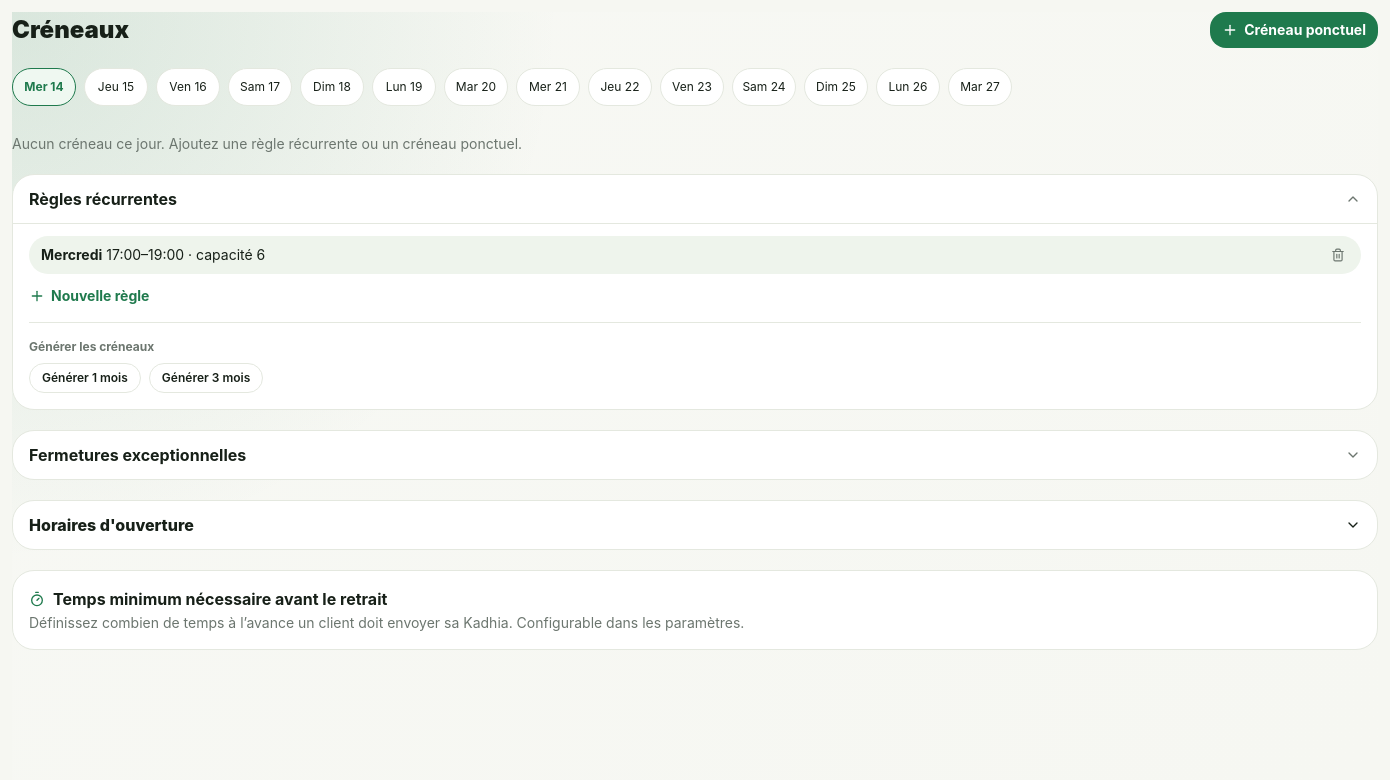
Test: MerchantCreneauxPage › rereads slots after an uncertain generation before allowing another attempt
Click the button "Générer 1 mois": (85, 378) [29, 363, 141, 393]
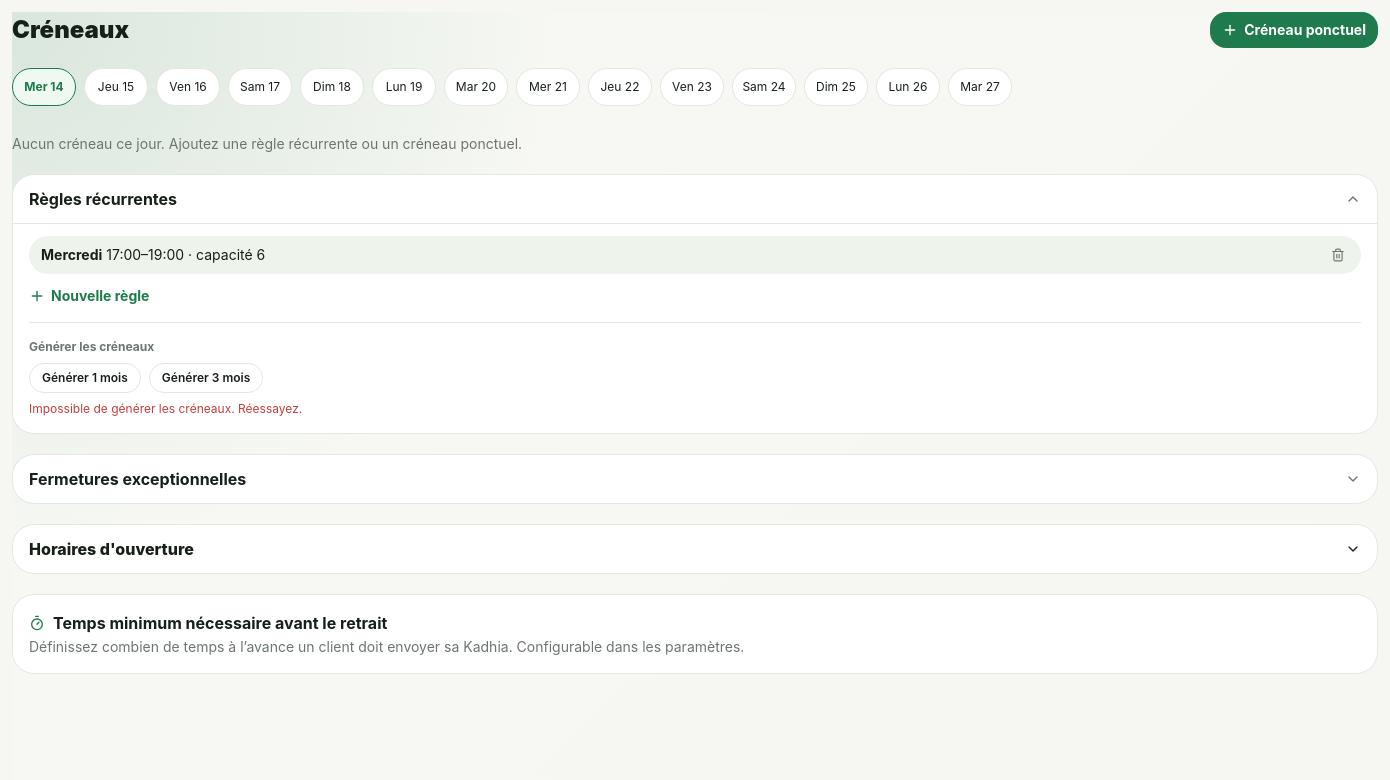
Result: the text "Impossible de générer les créneaux. Réessayez." is shown at [29, 401, 302, 416]
